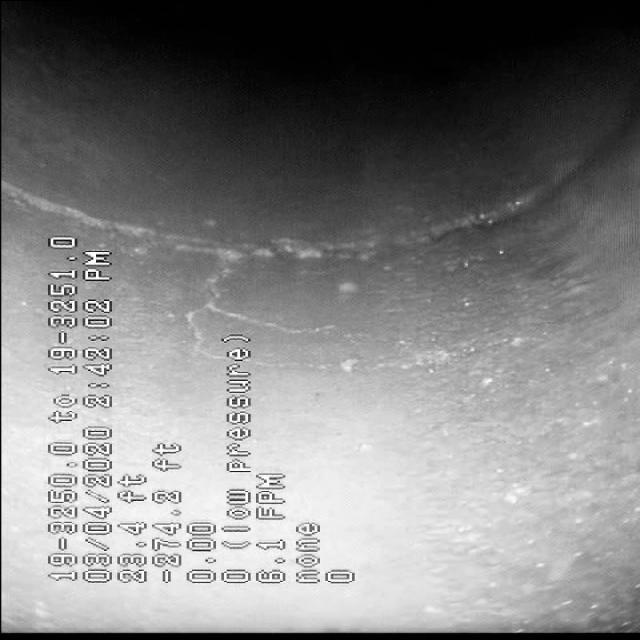Crack: (142, 270, 526, 402)
